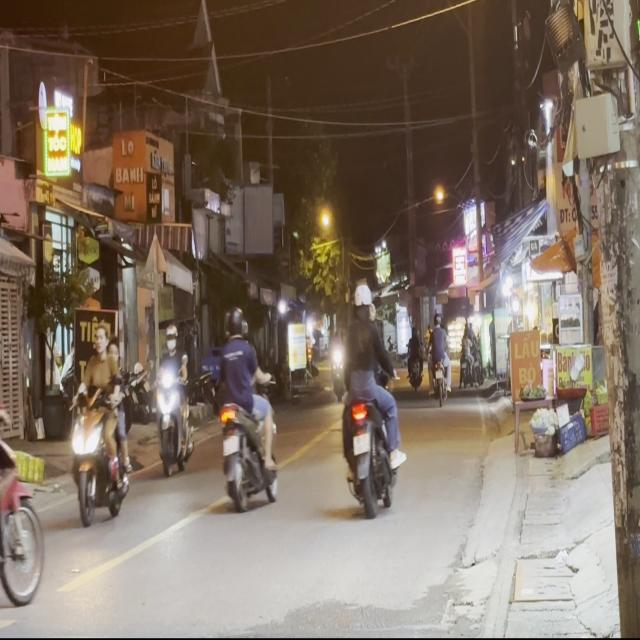helmet: (352, 281, 372, 316), (225, 305, 244, 337), (164, 324, 177, 352)
licenseplate: (0, 225, 48, 622), (336, 280, 404, 516), (68, 317, 132, 527), (214, 304, 278, 511), (152, 321, 194, 476)
motorcyclist: (92, 320, 108, 354)
nohelmet: (352, 432, 370, 455), (222, 434, 239, 455)
